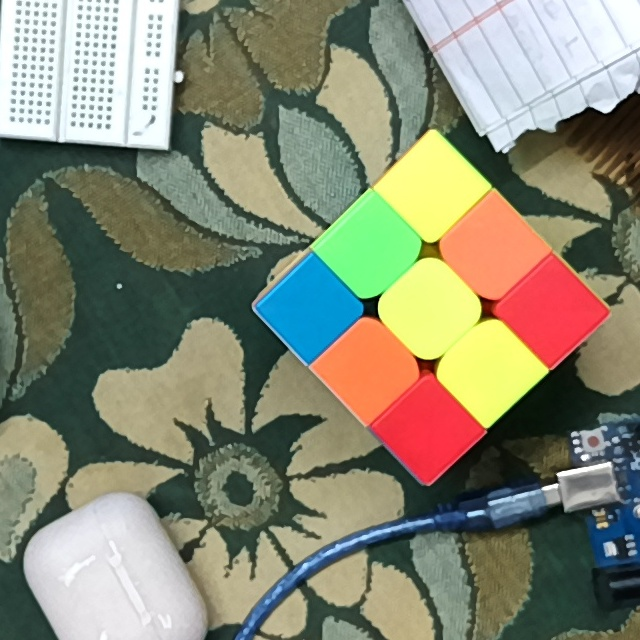tile: (338, 338, 397, 399), (339, 222, 400, 277), (400, 400, 455, 459), (400, 278, 456, 335), (462, 224, 521, 276), (461, 343, 520, 395), (404, 162, 461, 215), (522, 285, 580, 337), (283, 286, 338, 333)
